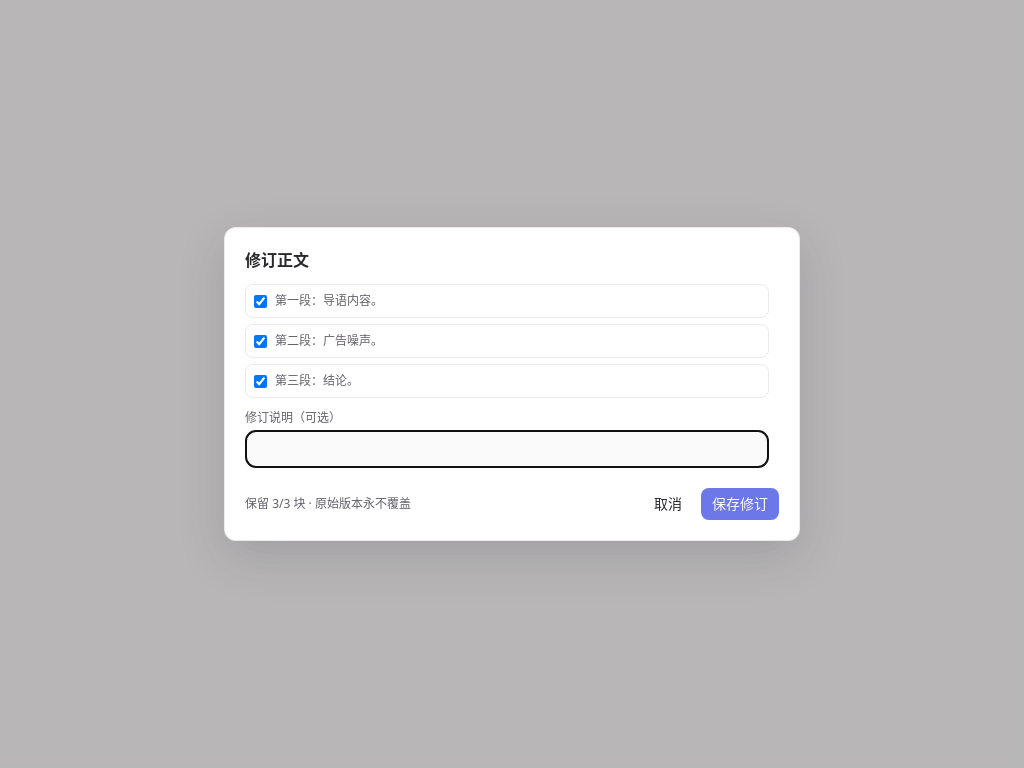
F089 剪藏手工修订 › F089: 全移除需显式确认（force）；422 must_keep_one 诚实透出
Check: the text "第一段：导语内容。" is shown, box [275,292,383,309]
Click the checkbox labelled "第一段：导语内容。" at coordinates (260, 302), box [254,295,267,308]
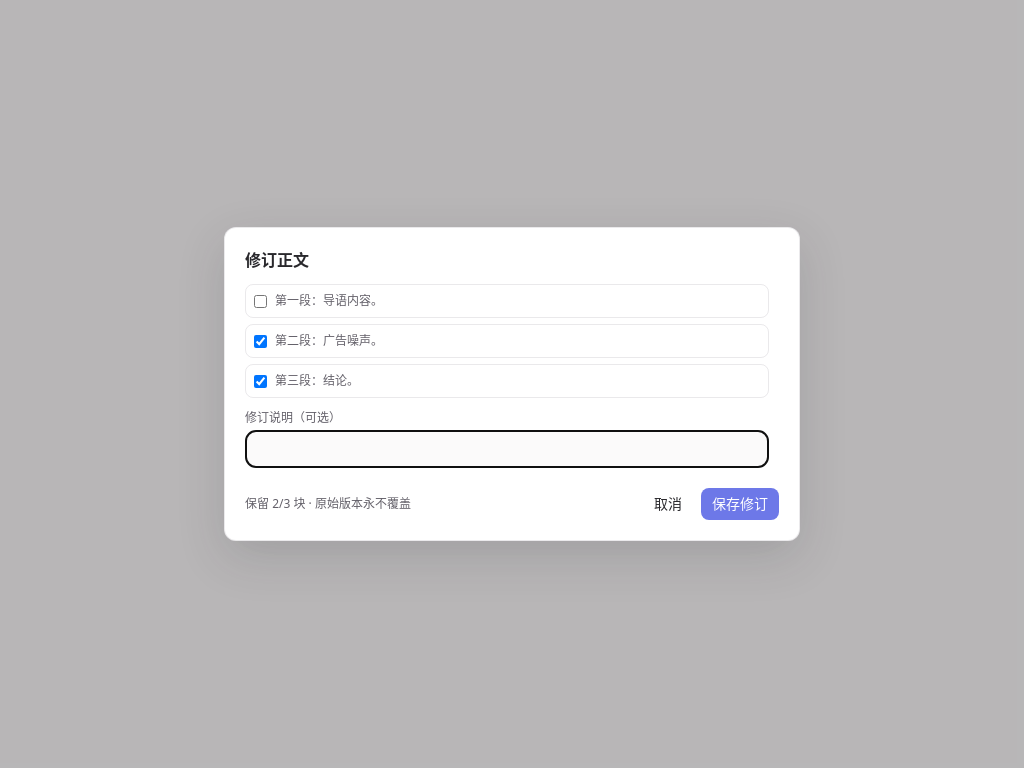
Click the checkbox named "保留块：b2" at coordinates (260, 342), box [254,335,267,348]
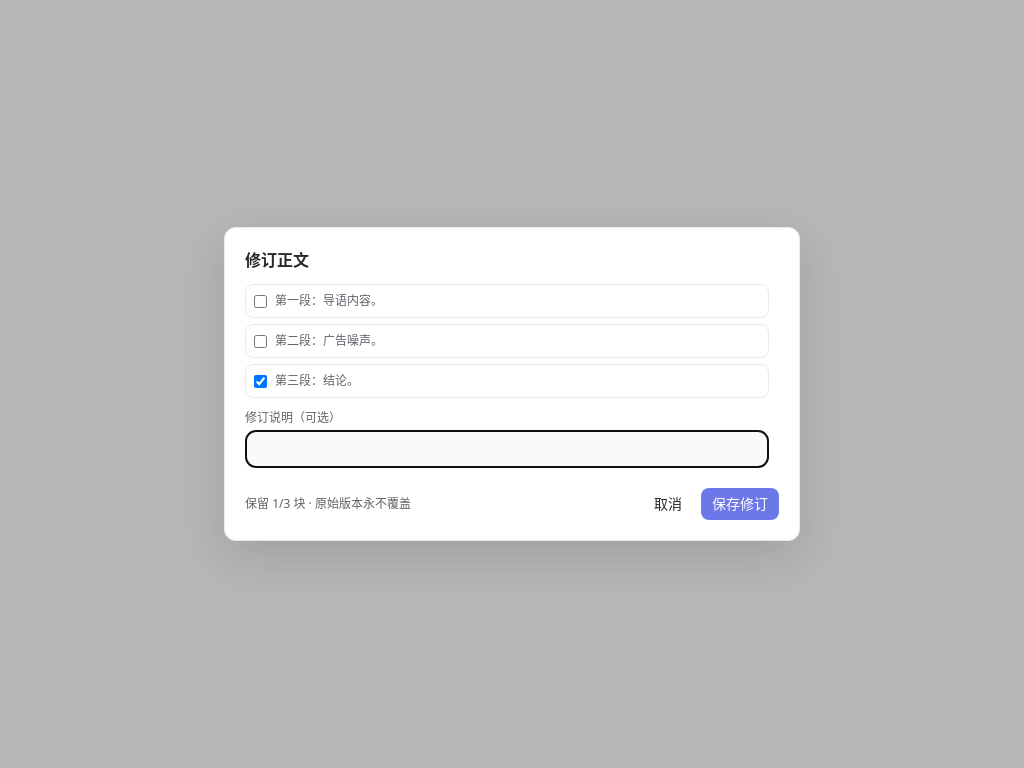
Click the checkbox labelled "第三段：结论。" at coordinates (260, 382), box [254,375,267,388]
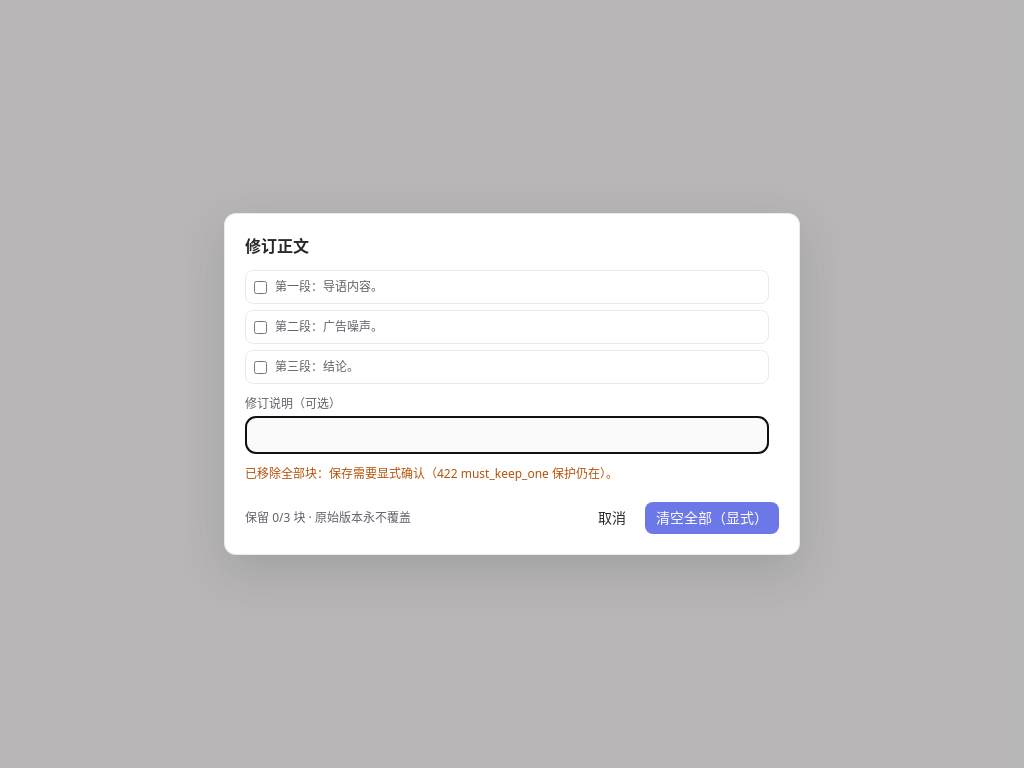
Check: the text "已移除全部块：保存需要显式确认（422 must_keep_one 保护仍在）。" is shown, box [245,465,618,482]
Click the button "清空全部（显式）" at coordinates (712, 518), box [645,502,779,534]
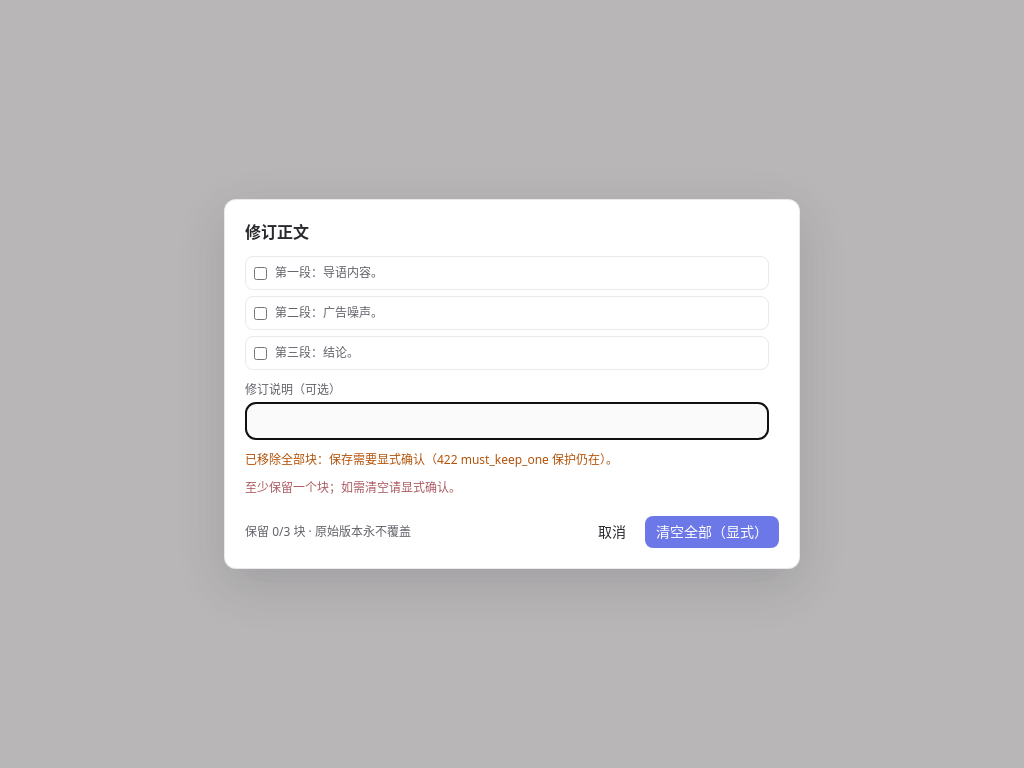
Check: the message "至少保留一个块；如需清空请显式确认。" is shown, box [245,479,461,496]
